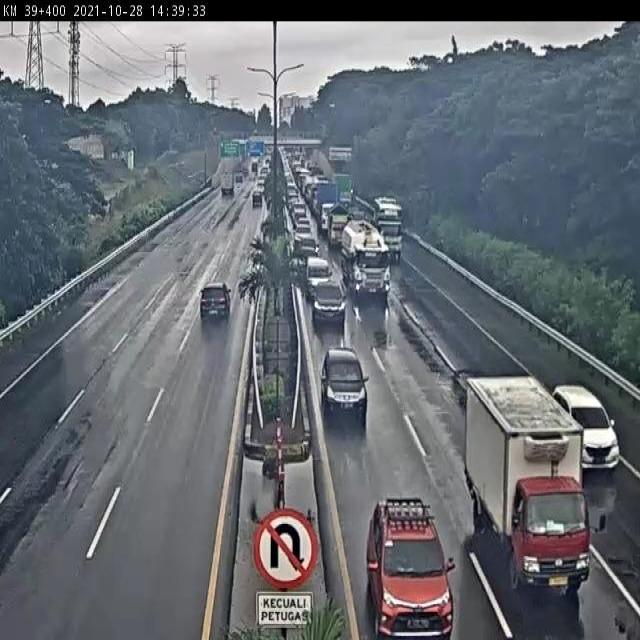big bus: (371, 197, 414, 259)
big truck: (349, 226, 390, 302)
car: (368, 494, 459, 640), (552, 378, 623, 474), (321, 344, 370, 420), (199, 276, 236, 333), (299, 254, 338, 298), (312, 276, 345, 324)
small truck: (463, 364, 599, 601)
